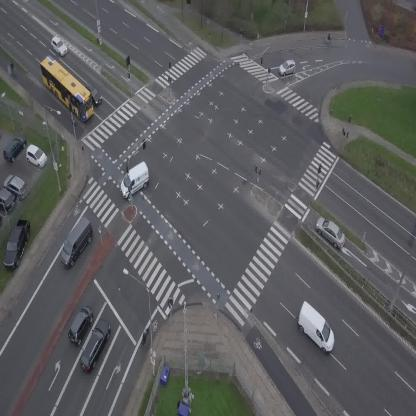bicycle: (139, 326, 151, 346), (322, 33, 335, 46), (8, 61, 18, 77)
bus: (32, 53, 103, 123)
car: (75, 316, 116, 375), (63, 303, 98, 348), (310, 213, 351, 251), (83, 81, 104, 107), (47, 35, 70, 58), (277, 58, 298, 77)
lorry: (287, 299, 343, 356), (53, 215, 101, 271), (113, 161, 156, 200)
